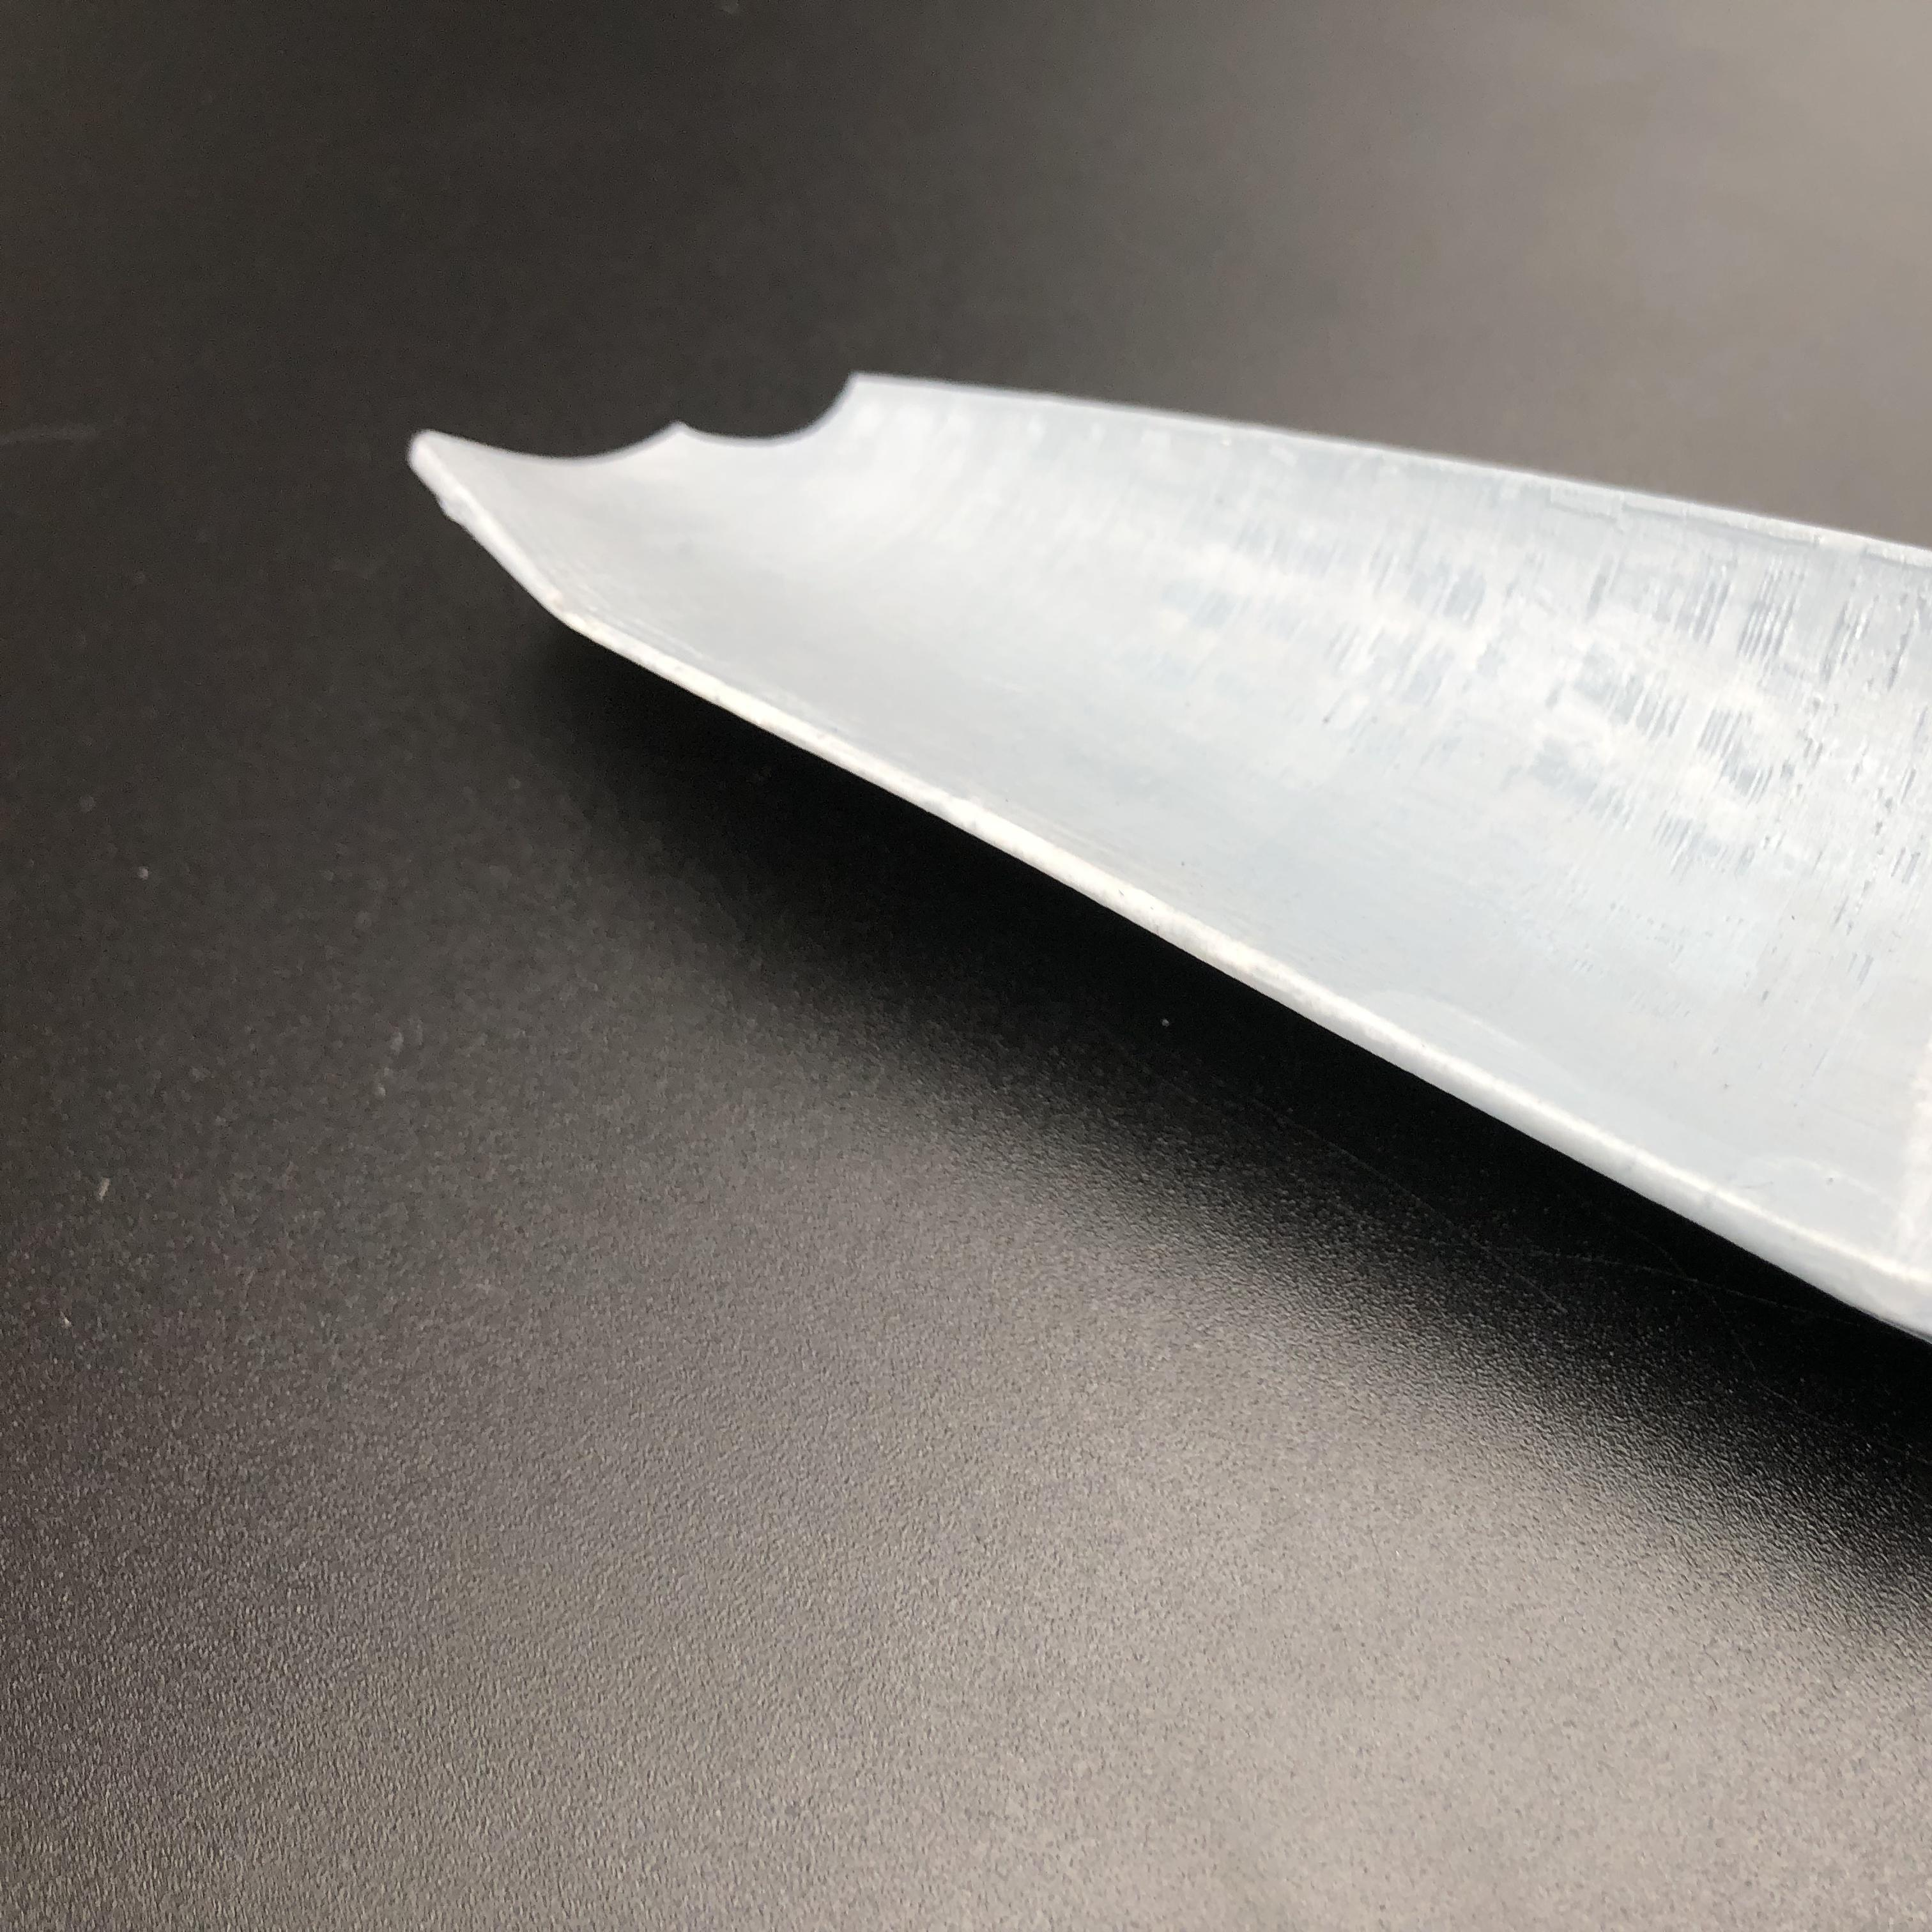fracture: (460, 361, 915, 506)
